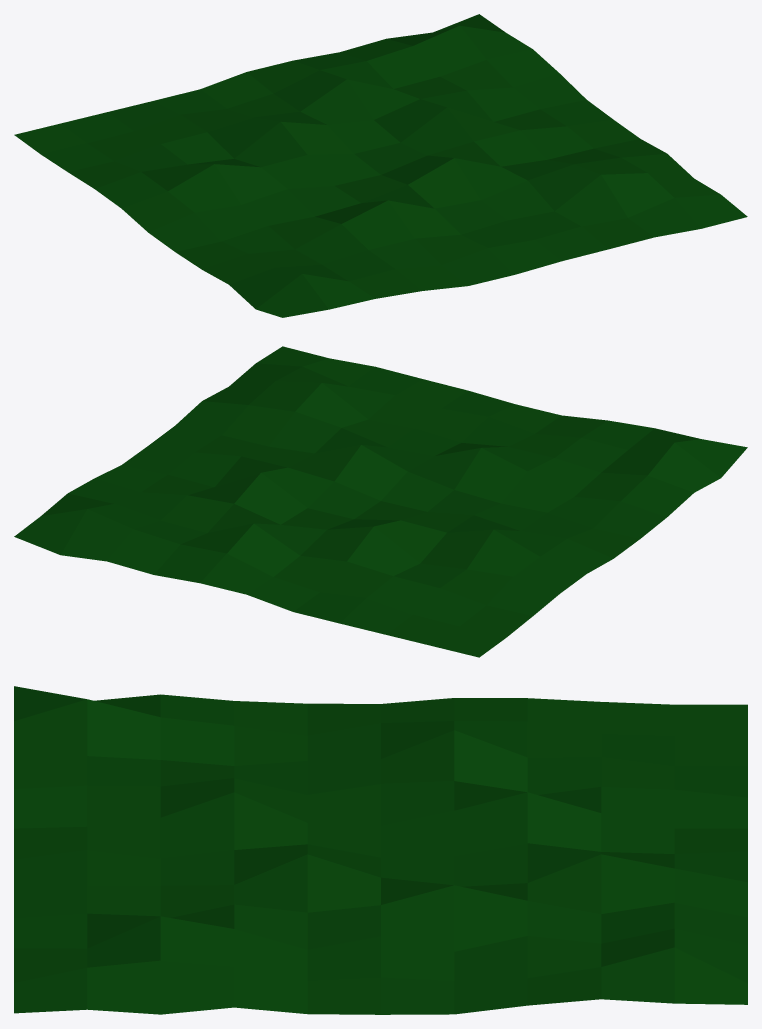
3 renders of one model, top to bottom at view 1: azimuth 30°, elevation 25°; view 2: azimuth 150°, elevation 25°; view 3: azimuth 270°, elevation 25°, orthographic. The views are drawn at different scales.
Parts seen in each view (by area): view 1: Plane; view 2: Plane; view 3: Plane.
Boxes of the visible parts, bbox=[...] form: Plane: bbox=[14, 14, 747, 317]; Plane: bbox=[14, 346, 747, 657]; Plane: bbox=[14, 686, 747, 1014].
Size of the model in its own units: 1643 by 90.1 by 1643.
